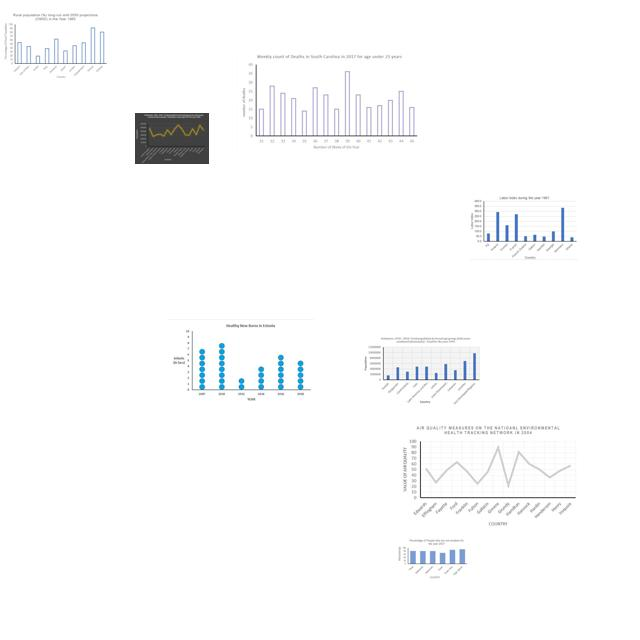Graph: (398, 422, 579, 529), (237, 51, 421, 154), (168, 319, 314, 405), (363, 335, 482, 406), (2, 12, 108, 79), (470, 195, 578, 260), (135, 113, 209, 164), (397, 537, 469, 580)
